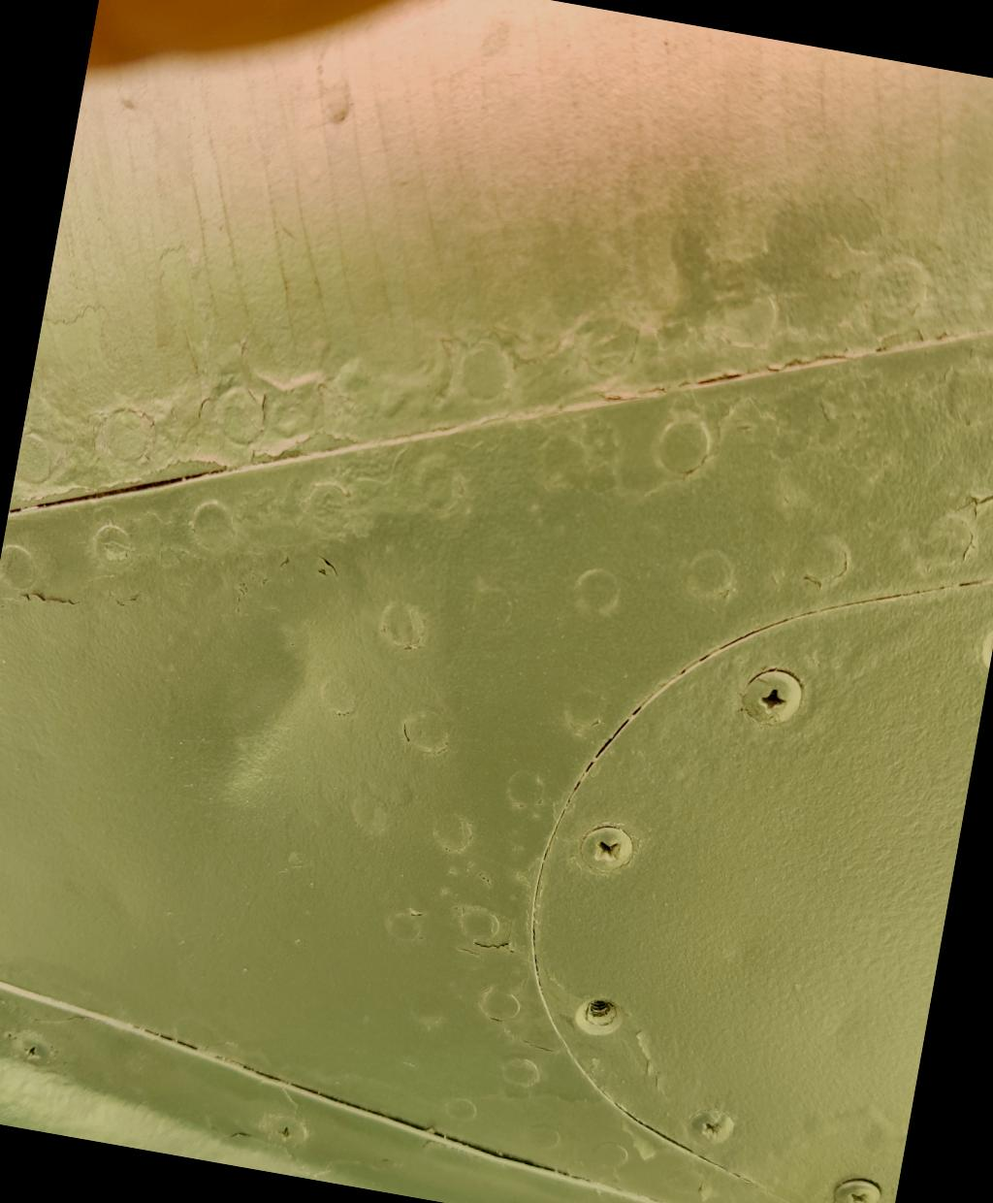dent: (129, 543, 376, 859)
